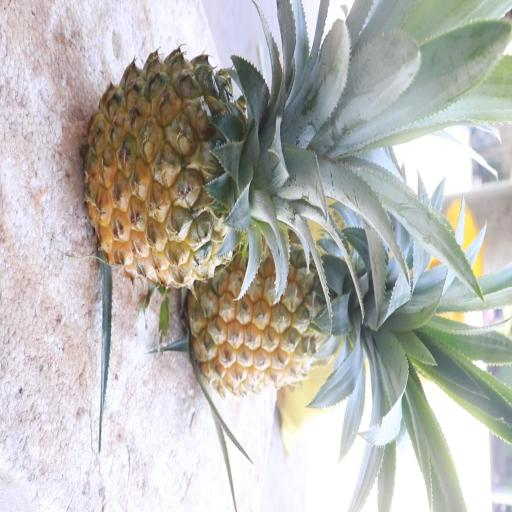Pineapple - v8 v1: (81, 40, 328, 298), (183, 200, 392, 404)
